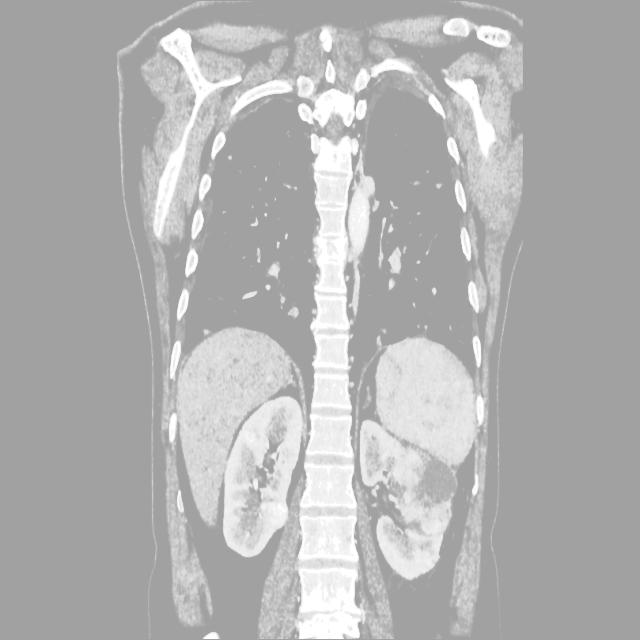TUMOR: (56, 287, 545, 532)
